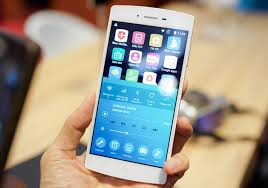bphone: (82, 1, 197, 186)
